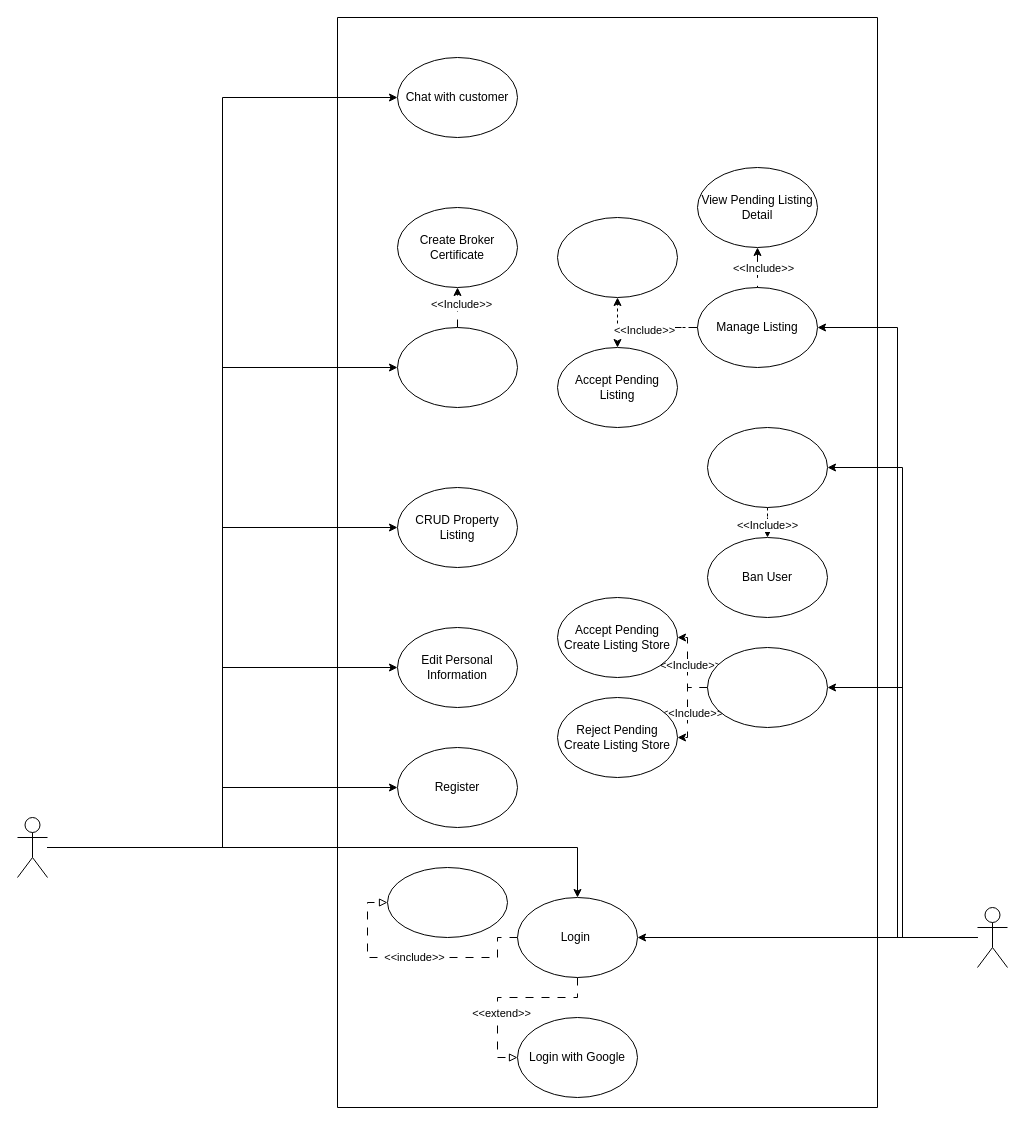
Image size: 1027x1125. Some labels were removed from this diagram. The centre of each missing label's shape, as x and y in pixels:
Admin: point 992,937
Create Listing Store: point 457,367
Login with username and password: point 447,902
Manage Create Listing Store: point 767,687
Manage User: point 767,467
Reject Pending Listing: point 617,257
User: point 32,847
